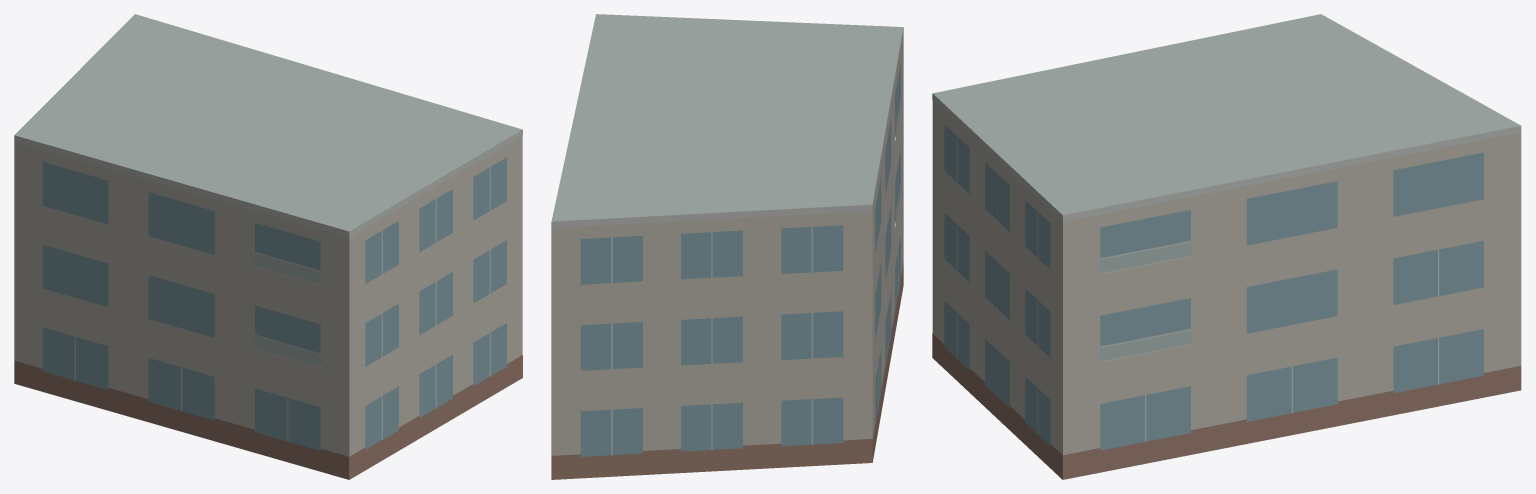
The model's file is survey-upis-32916195.glb.
The picture shows the model from 3 angles, left to right: view 1: azimuth 30°, elevation 25°; view 2: azimuth 150°, elevation 25°; view 3: azimuth 270°, elevation 25°; orthographic projection. The views are drawn at different scales.
Parts seen in each view (by area): view 1: survey-upis-32916195.tmp; view 2: survey-upis-32916195.tmp; view 3: survey-upis-32916195.tmp.
Part boxes in pixels (x1,y1,x2,y2): survey-upis-32916195.tmp: (14,14,522,479); survey-upis-32916195.tmp: (551,14,903,479); survey-upis-32916195.tmp: (932,14,1521,479).
Bounding box in the file's own units: 15.83 × 9.7 × 19.57.
